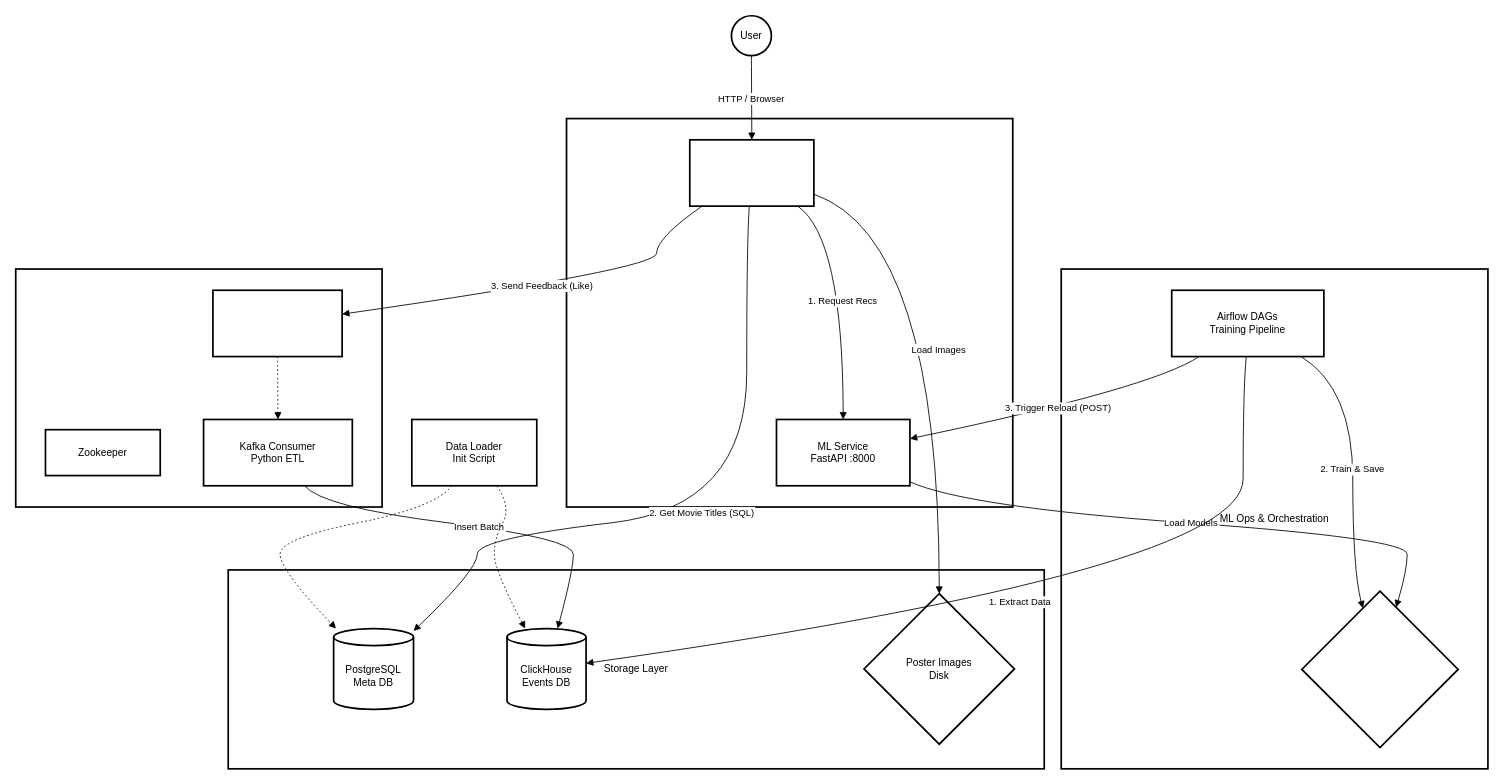
The diagram is 1503 pixels wide and 784 high, and some of its shapes have lost their labels. The box of each missing label's shape, as (x1, y1, x2, y2) in pixels:
Application Layer: (565, 117, 1013, 507)
Data Streaming: (14, 268, 382, 507)
Kafka Broker :9092: (212, 289, 343, 357)
Stored Models: (1300, 590, 1459, 748)
Streamlit UI :8501: (688, 139, 814, 207)
